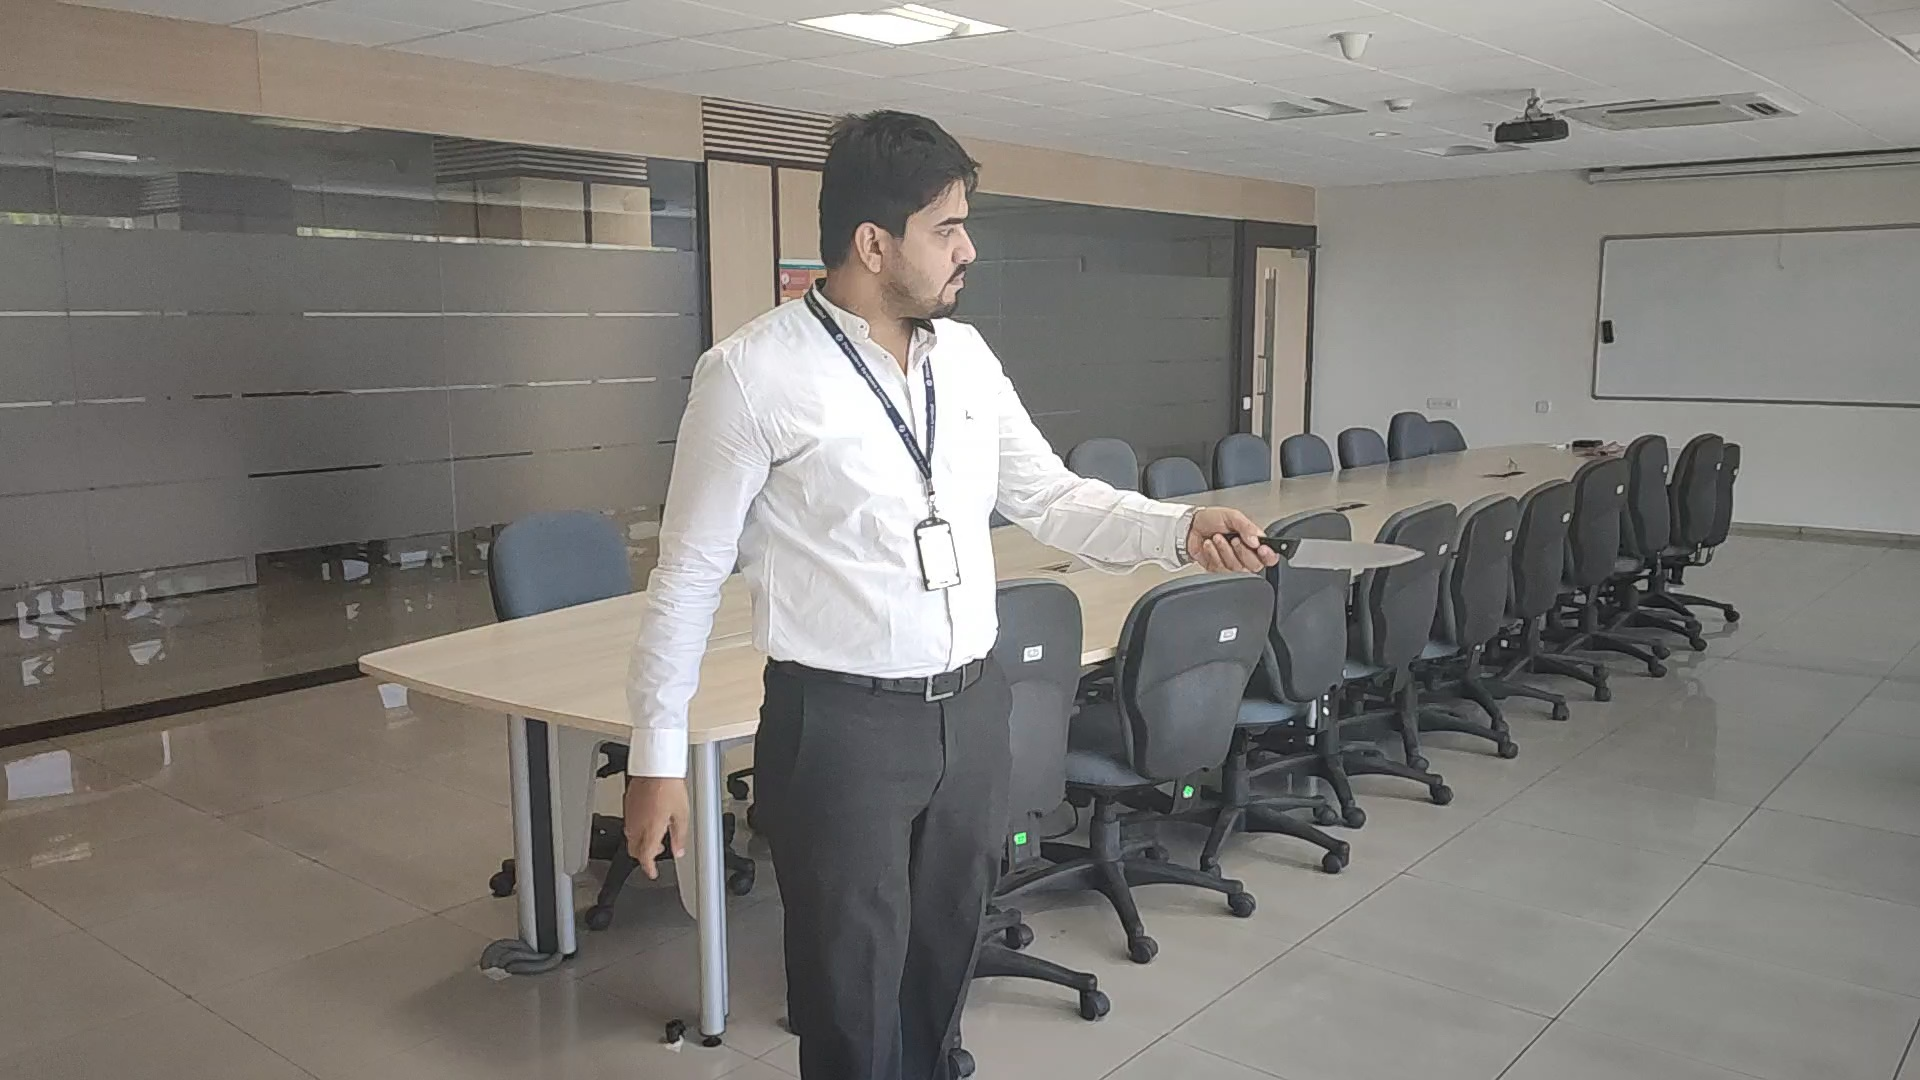knife: (1283, 535, 1427, 570)
